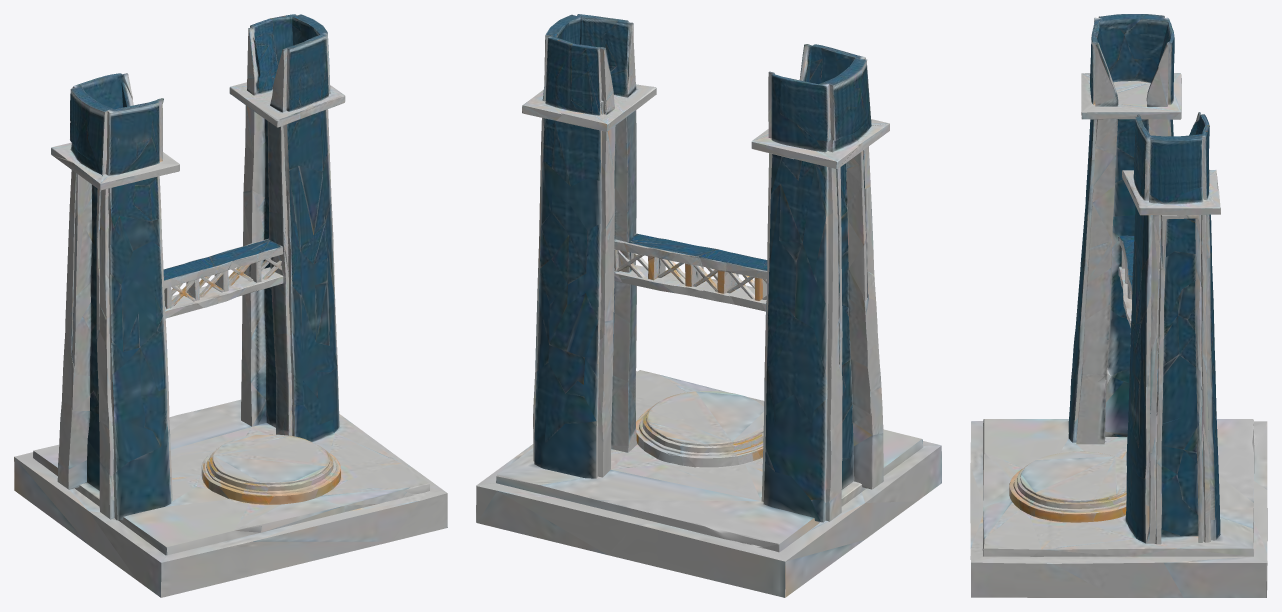
The model's file is lm_twin_cities_plaza.glb.
3 renders of one model, left to right at view 1: azimuth 30°, elevation 25°; view 2: azimuth 150°, elevation 25°; view 3: azimuth 270°, elevation 25°, orthographic. The views are drawn at different scales.
Bounding box in the file's own units: 1.33 × 1.9 × 1.15.
Materials: 1 (1 with a texture image).
